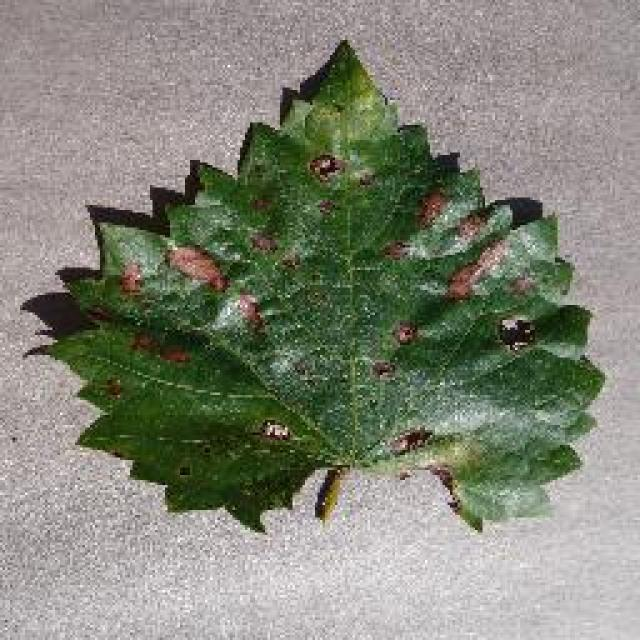Black_Measles: (26, 21, 612, 546)
